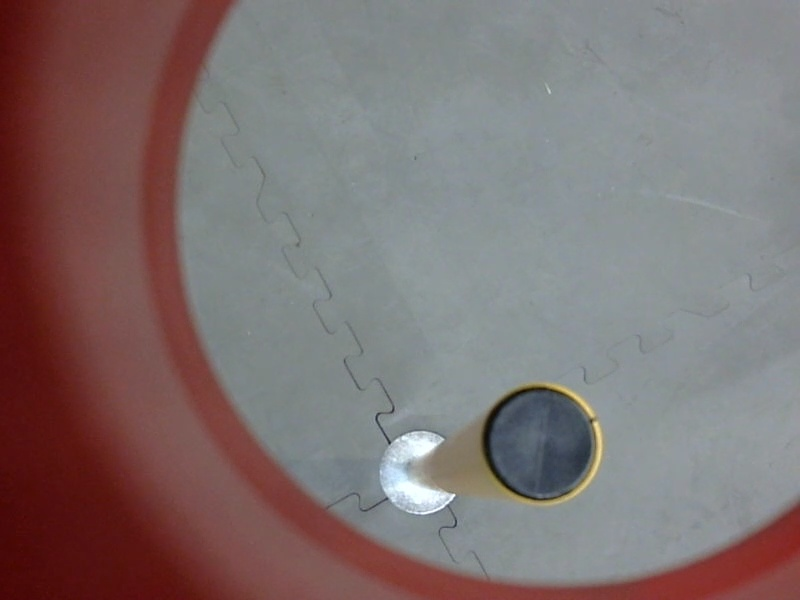tip: (472, 372, 611, 515)
